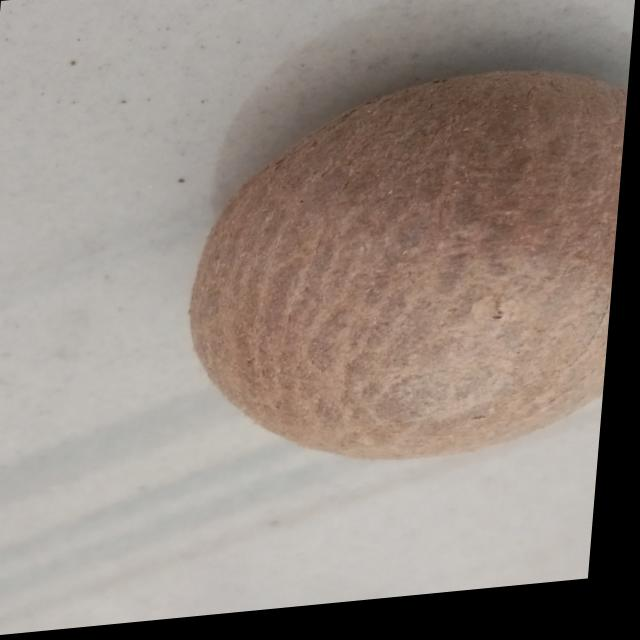good: (160, 54, 633, 506)
